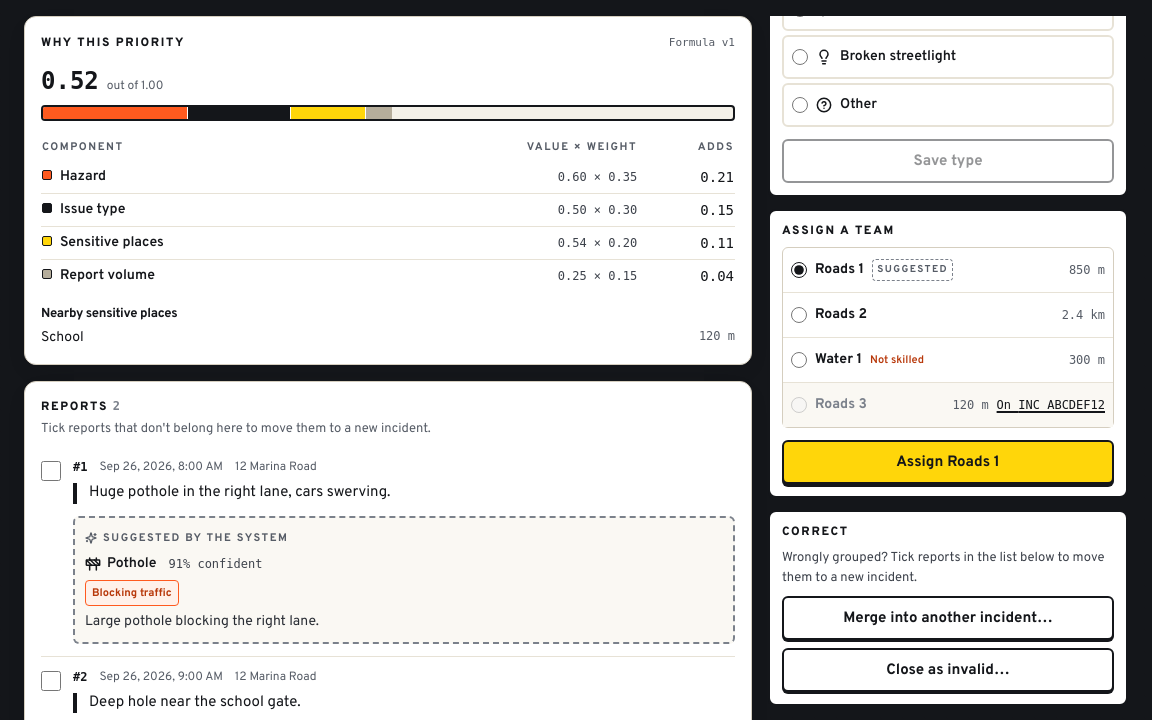
Test: Incident page: assign › defaults to the suggested team, flags overrides and unskilled teams, and disables busy teams
(page scrolled)
Expected: the radio button labelled "Roads 1 Suggested 850 m" is checked, [791,262,807,278]
Expected: the label "Roads 1 Suggested 850 m" is shown, [791,259,1105,281]
Click the radio button labelled "Water 1 Not skilled 300 m".
click(799, 360)  # box [791,352,807,368]
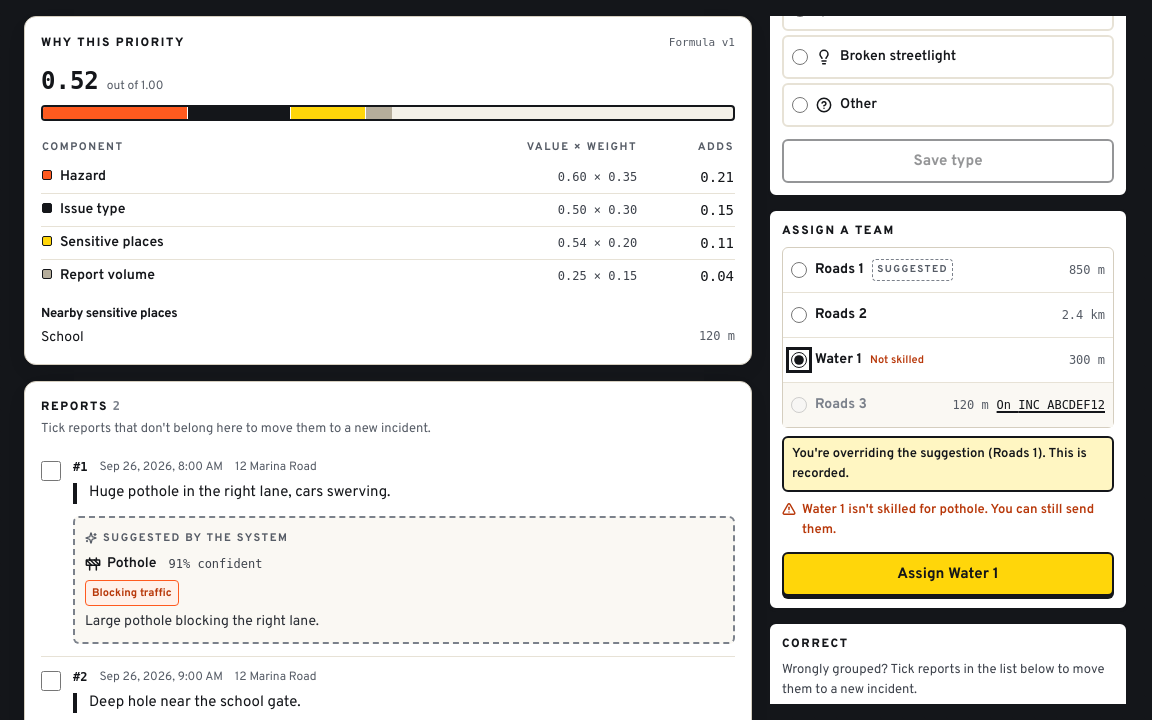
Expected: the text "You're overriding the suggestion (Roads 1)" is shown, [782,436,1114,492]
Expected: the text "Water 1 isn't skilled for pothole. You can still send them." is shown, [782,500,1114,540]
Click the button "Assign Water 1".
click(948, 574)  # box [782,552,1114,596]
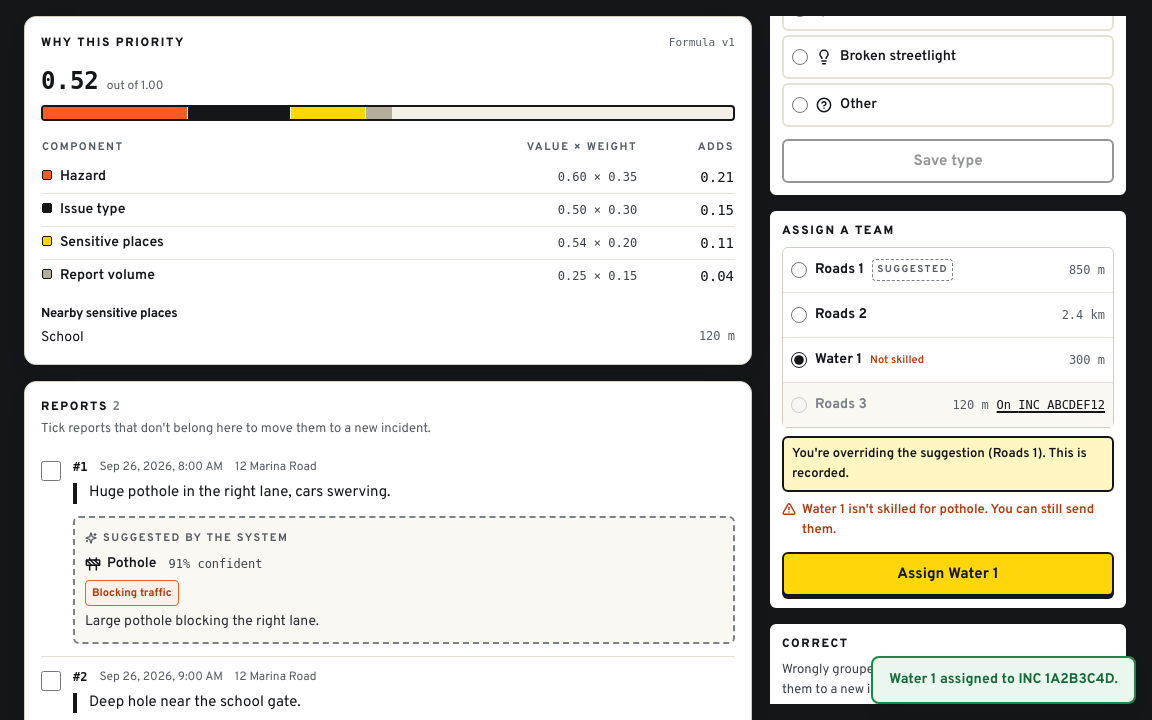
Expected: the message reads "Water 1 assigned to INC 1A2B3C4D.", [889,671,1118,688]
